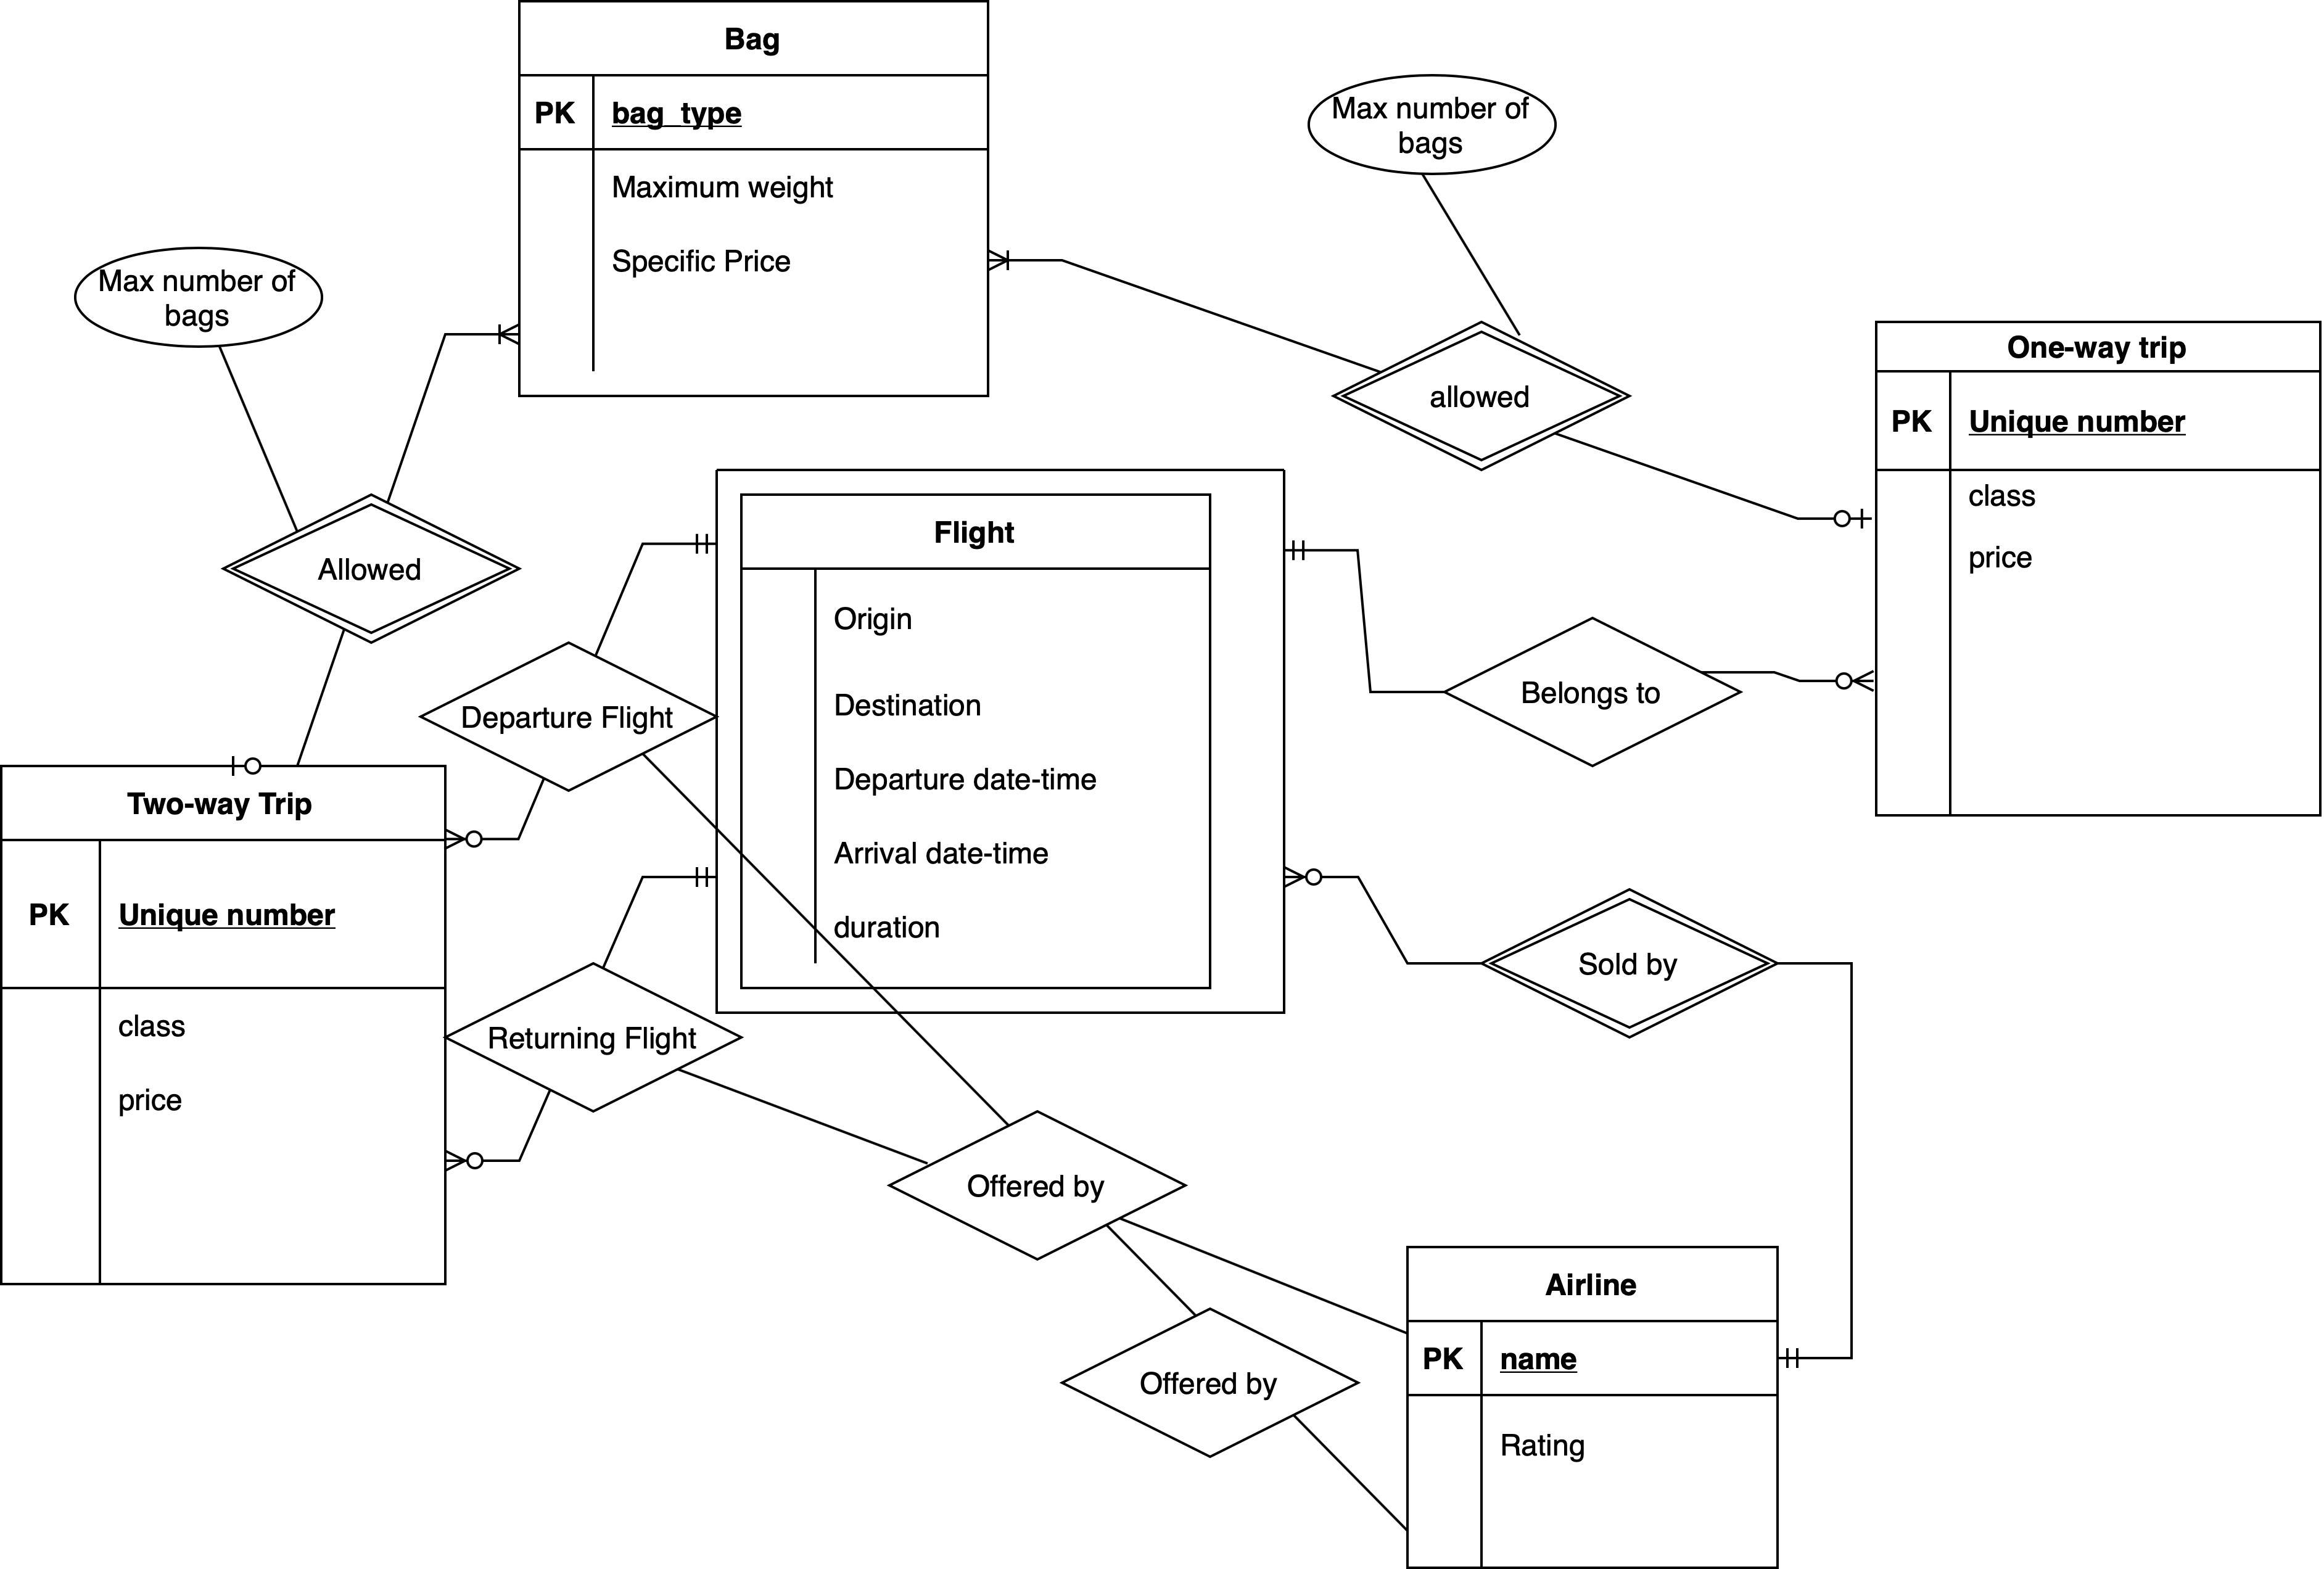attribute: (72, 245, 319, 350), (1305, 75, 1559, 175)
entity: (0, 762, 450, 1289), (1872, 319, 2320, 818), (517, 0, 991, 398), (1401, 1243, 1781, 1569)
relationship: (419, 643, 722, 793), (447, 963, 744, 1115), (1063, 1308, 1361, 1457), (1443, 616, 1734, 767), (891, 1114, 1186, 1259)
weakentity: (711, 466, 1289, 1023)
weakrelationship: (1478, 891, 1778, 1042), (1329, 320, 1630, 469), (221, 497, 518, 644)
